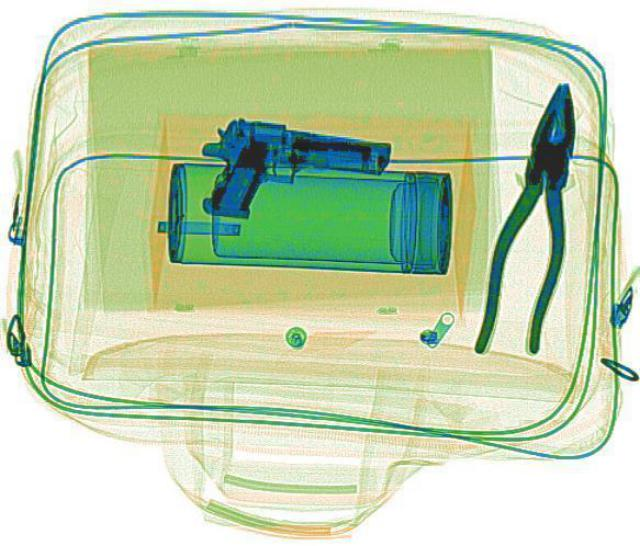Gun: (182, 110, 396, 235)
Pliers: (471, 77, 595, 358)
